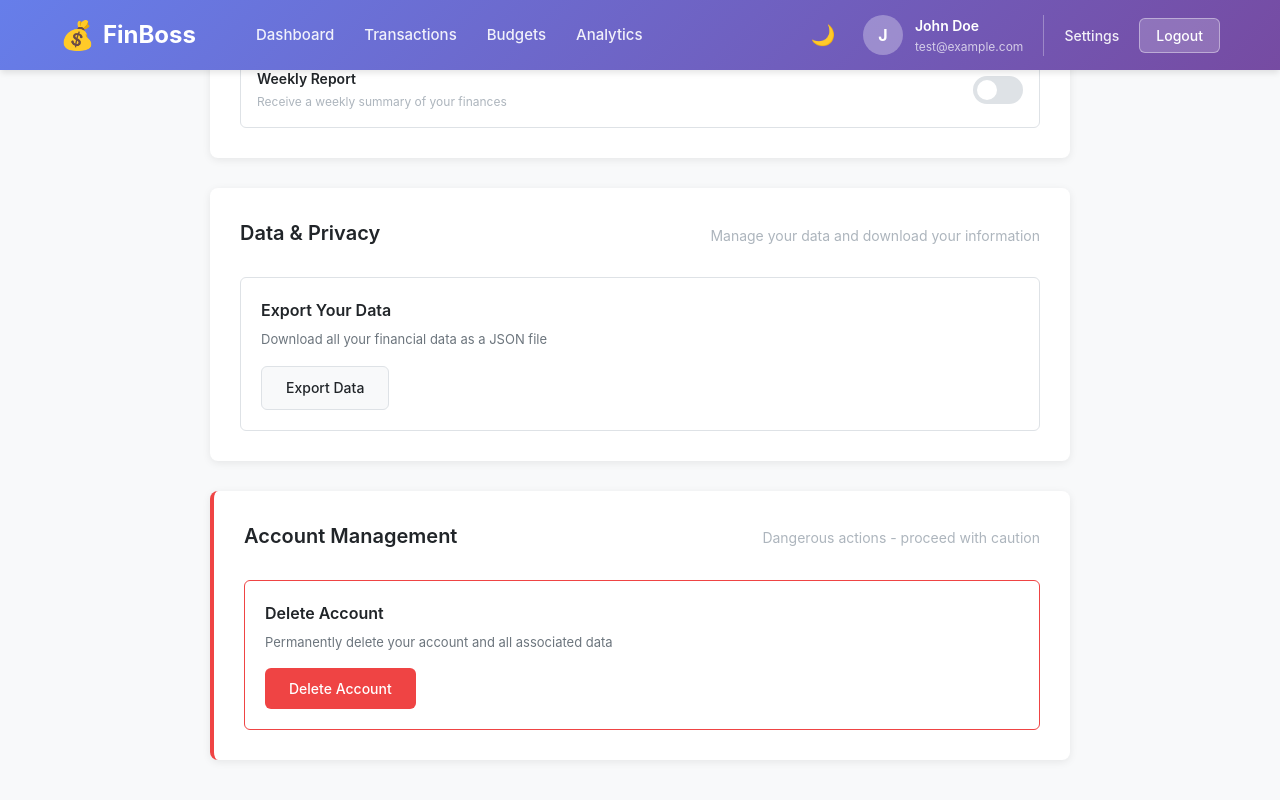
Test: Settings Page › Account Management Section › should allow canceling account deletion
The image size is (1280, 800).
(page scrolled)
Click the button "Delete Account": {"x": 340, "y": 688} x1=265 y1=668 x2=416 y2=709
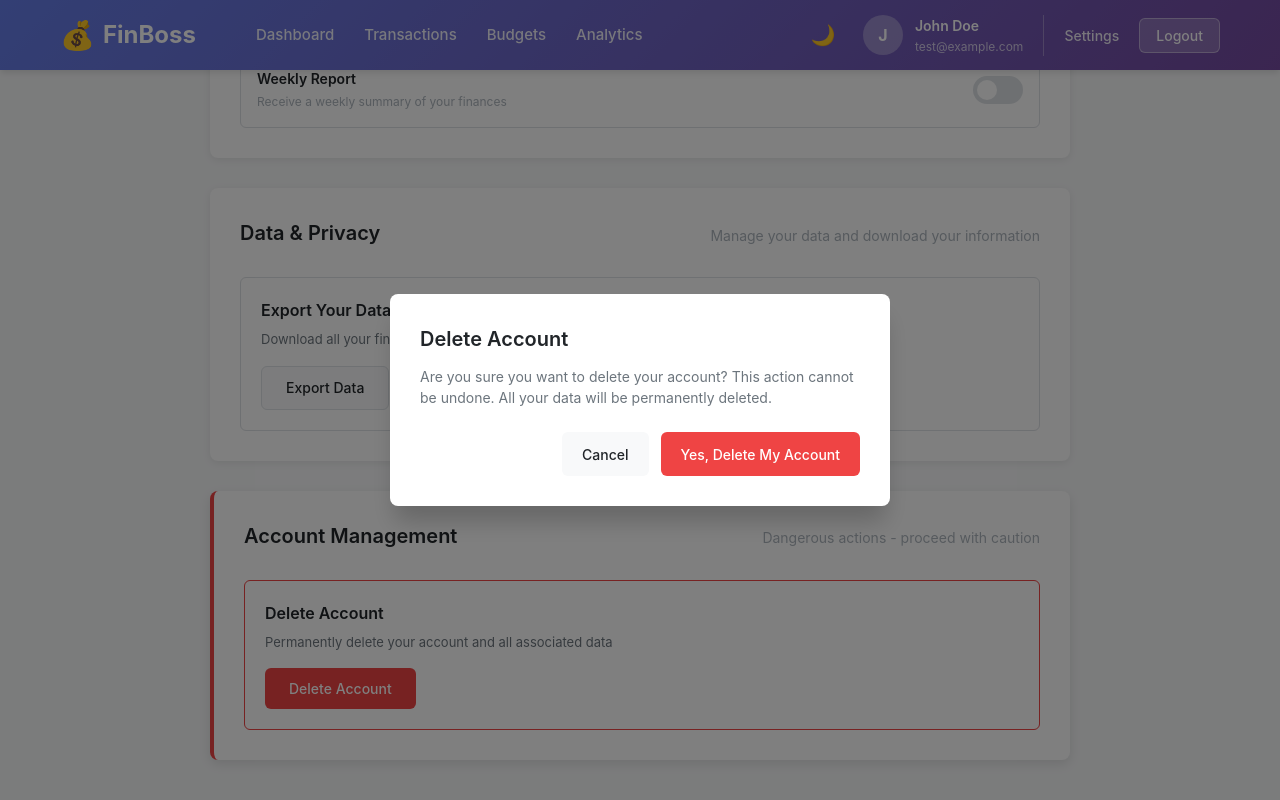
Click the button "Cancel": {"x": 605, "y": 454} x1=562 y1=432 x2=648 y2=476
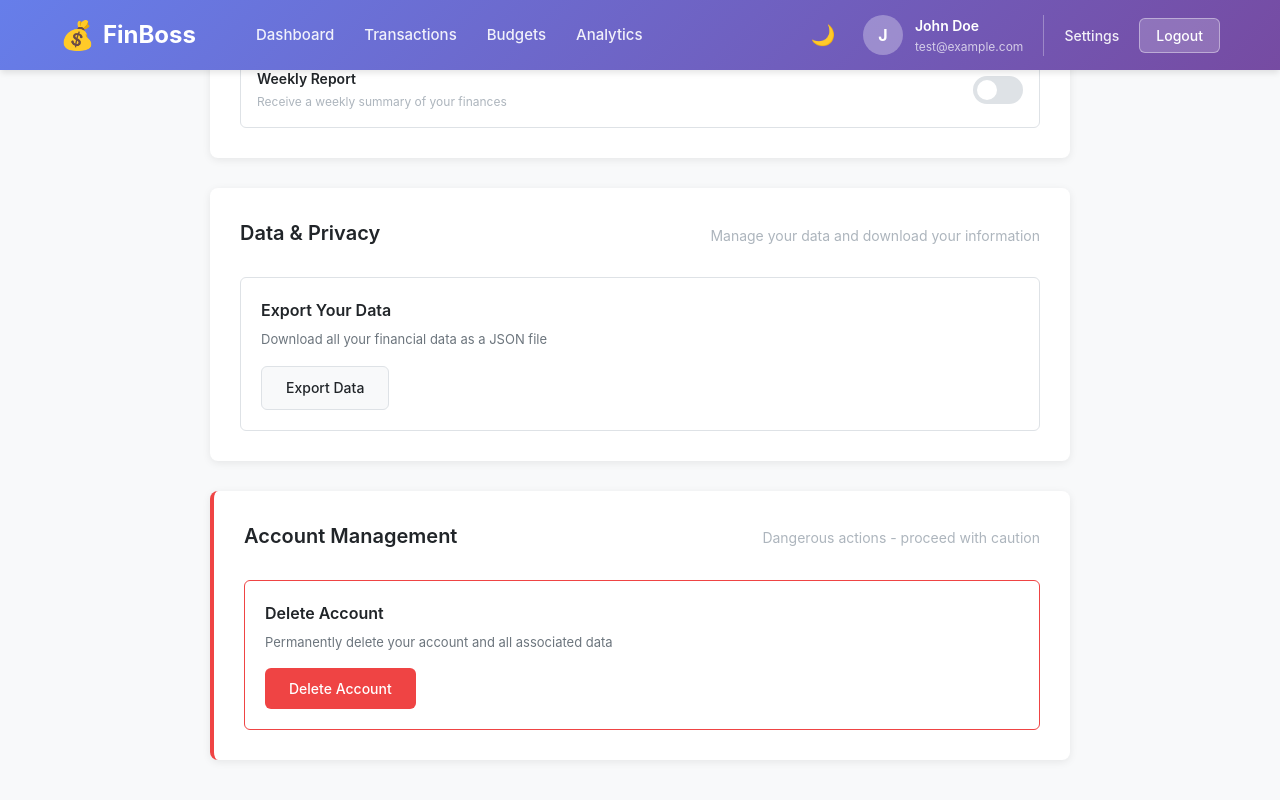
Now the text "Are you sure you want to delete your account" is gone
